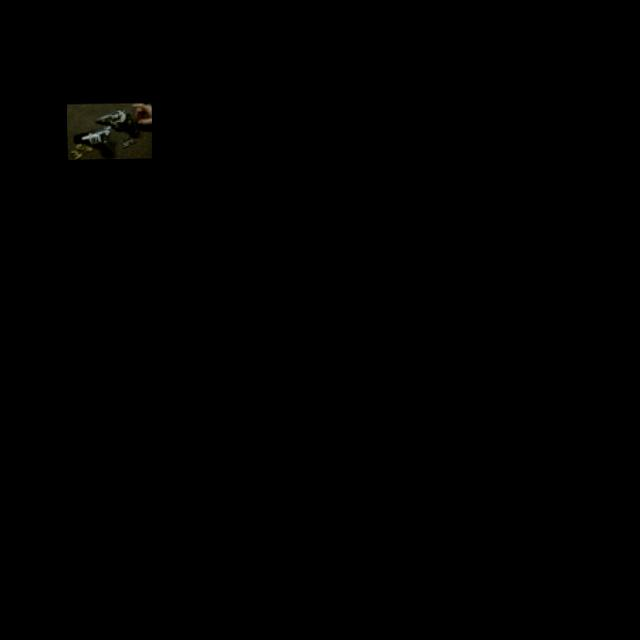handgun: (202, 95, 544, 365), (128, 280, 201, 342)
